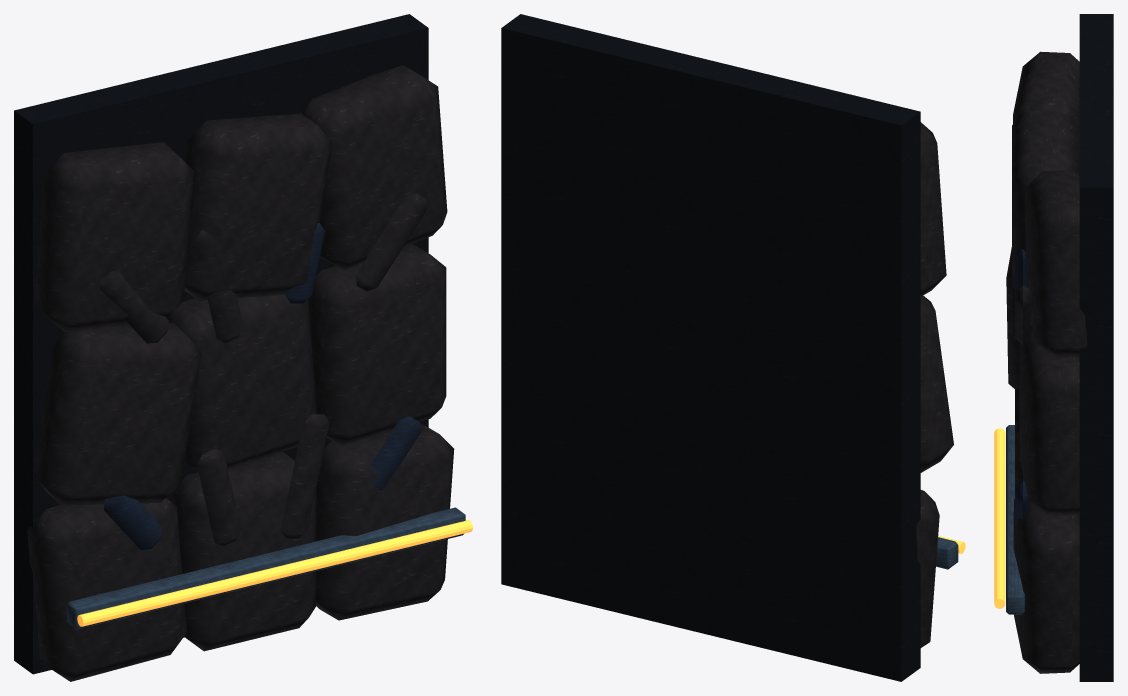
Rendered from bedrock.glb.
The picture shows the model from 3 angles, left to right: view 1: azimuth 30°, elevation 25°; view 2: azimuth 150°, elevation 25°; view 3: azimuth 270°, elevation 25°; orthographic projection. The views are drawn at different scales.
Parts seen in each view (by area): view 1: bedrock - Basalt, bedrock - Recessed iron, bedrock - Brushed gunmetal, bedrock - Hot service LEDs, bedrock - Blue steel; view 2: bedrock - Recessed iron, bedrock - Basalt; view 3: bedrock - Basalt, bedrock - Recessed iron, bedrock - Hot service LEDs, bedrock - Brushed gunmetal, bedrock - Blue steel.
Boxes of the visible parts, x1,y1,x2,y2 form: bedrock - Basalt: [27, 65, 454, 681]; bedrock - Recessed iron: [14, 14, 428, 674]; bedrock - Brushed gunmetal: [67, 507, 465, 629]; bedrock - Hot service LEDs: [77, 520, 472, 626]; bedrock - Blue steel: [104, 223, 420, 549]; bedrock - Recessed iron: [501, 14, 920, 681]; bedrock - Basalt: [916, 122, 953, 647]; bedrock - Basalt: [1006, 51, 1087, 673]; bedrock - Recessed iron: [1079, 14, 1113, 681]; bedrock - Hot service LEDs: [994, 428, 1005, 608]; bedrock - Brushed gunmetal: [1006, 425, 1024, 614]; bedrock - Blue steel: [1015, 249, 1030, 526].
Bounding box in the file's own units: 6.25 × 8.03 × 1.75.
5 materials, 4 textured.
